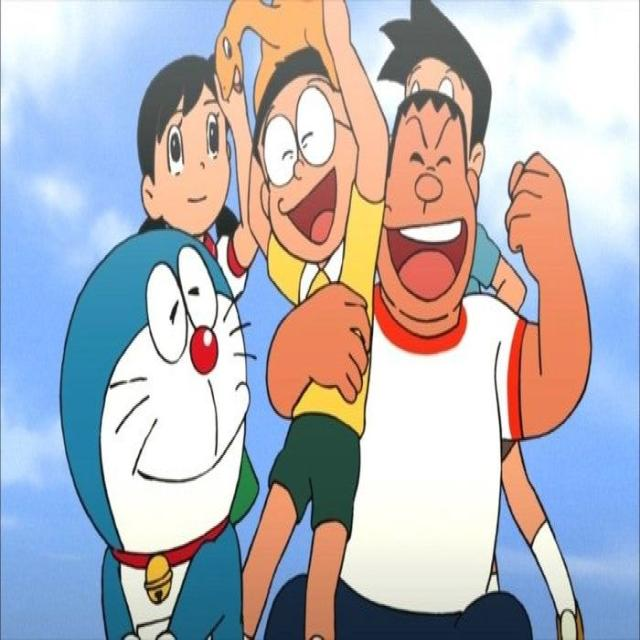doraemon: (35, 196, 294, 619)
jaian: (358, 78, 496, 395)
nobita: (242, 31, 368, 302)
shizuka: (126, 39, 254, 263)
